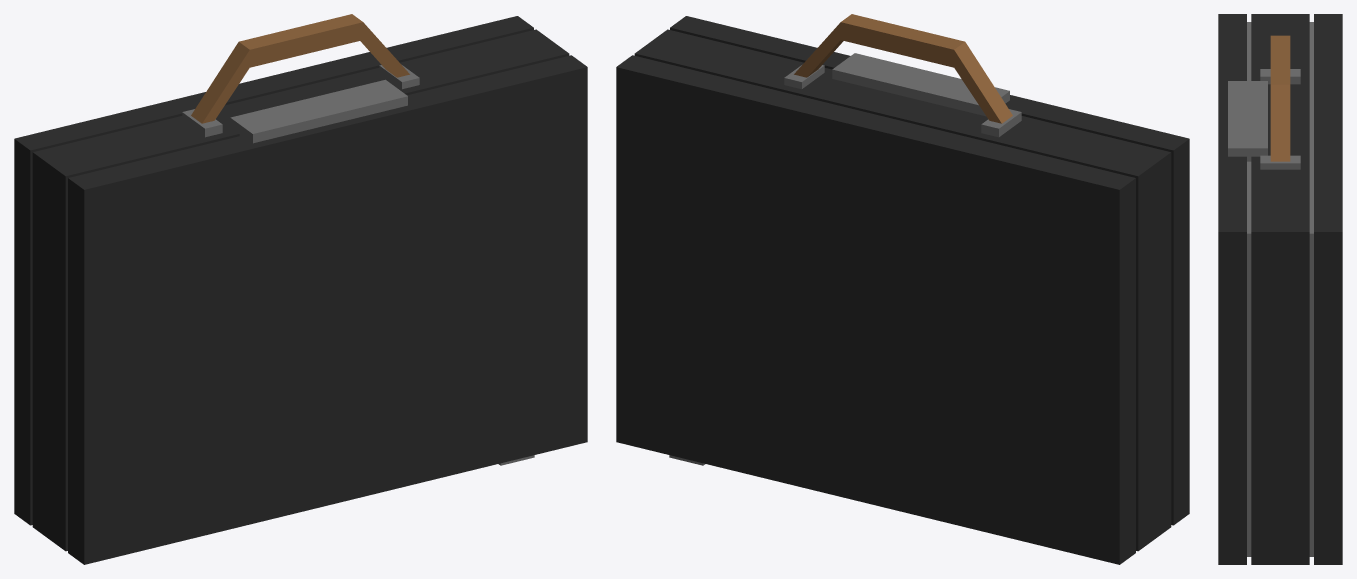
File: case.fbx
3 views of the same model, side by side, from view 1: azimuth 30°, elevation 25°; view 2: azimuth 150°, elevation 25°; view 3: azimuth 270°, elevation 25° (orthographic). The views are drawn at different scales.
Visible parts, largest first — view 1: Cube; view 2: Cube; view 3: Cube.
Part boxes in pixels (x1,y1,x2,y2): Cube: (14, 14, 587, 564); Cube: (616, 14, 1189, 564); Cube: (1218, 14, 1342, 564).
Bounding box in the file's own units: 200 × 173 × 48.17.
